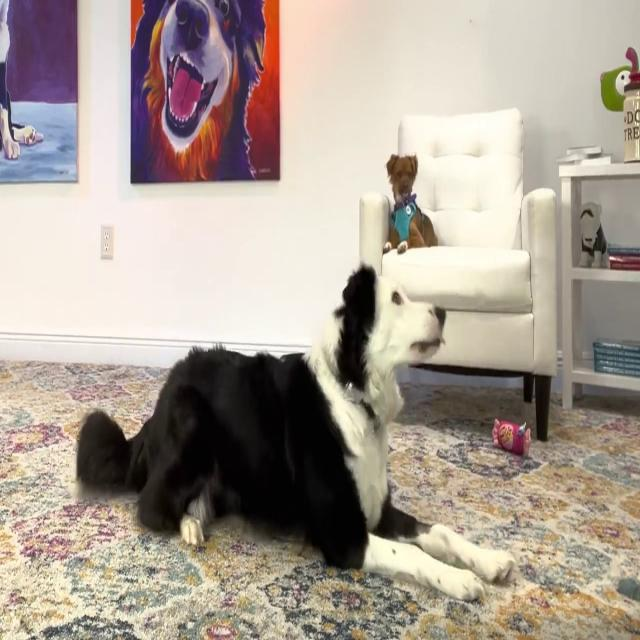Dog: (74, 261, 516, 604)
